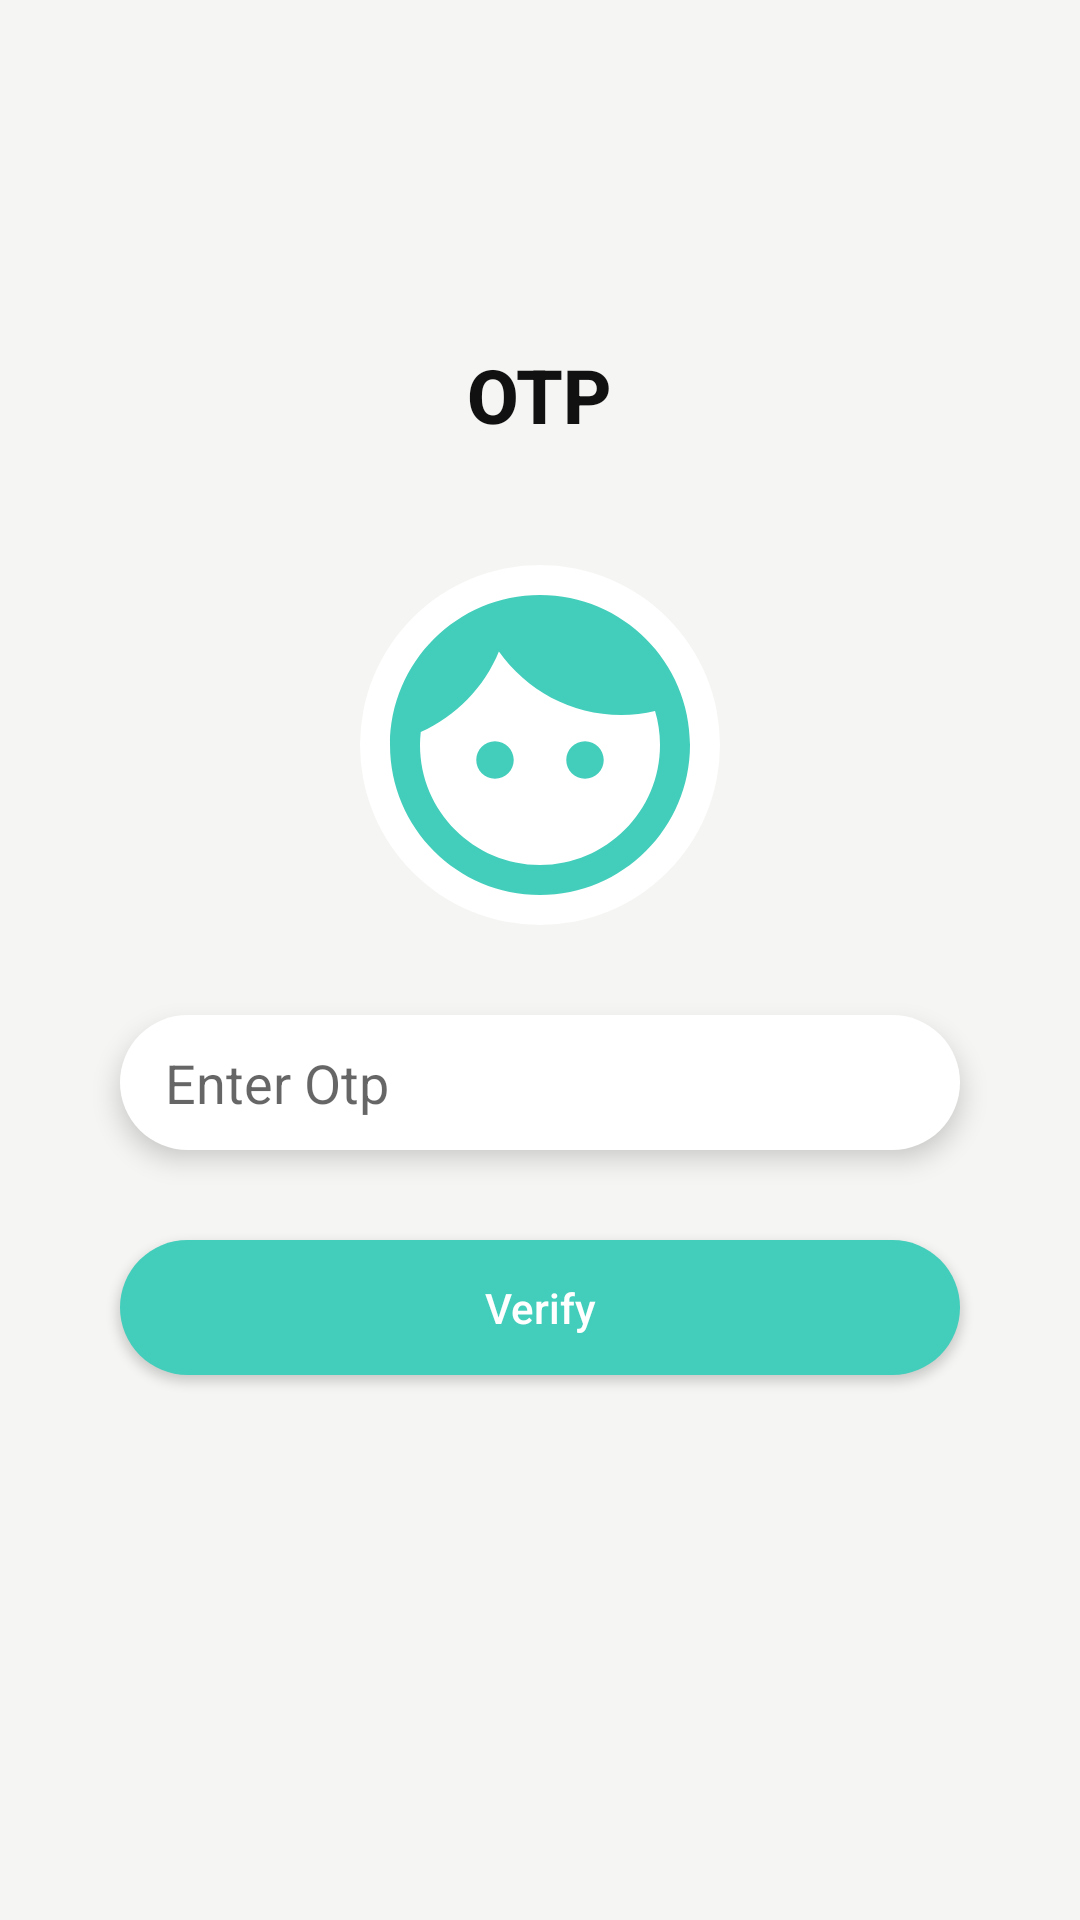

Icons on this 1080*1920 Android screen, each with the point to tap as (x=x, y=y):
face bliack: (x=540, y=745)
